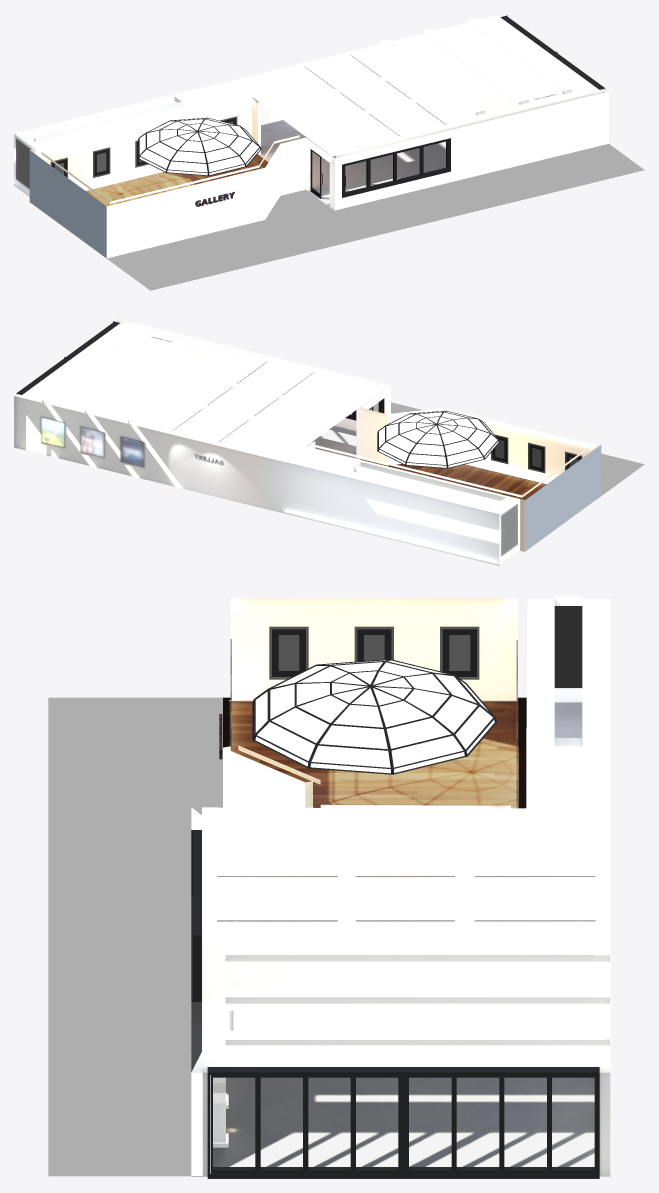
File: art-gallery15.glb
The picture shows the model from 3 angles, top to bottom: view 1: azimuth 30°, elevation 25°; view 2: azimuth 150°, elevation 25°; view 3: azimuth 270°, elevation 25°; orthographic projection. The views are drawn at different scales.
Parts seen in each view (by area): view 1: ParedesPrincipais, Paredes, Chao_entrada.001, Sphere.002, Chao_entrada, LuzesEmission, Metais, Chao_madeira, Todos os quadros; view 2: ParedesPrincipais, Paredes, Sphere.002, LuzesEmission, Chao_madeira, Chao_entrada.001, Todos os quadros, Chao_entrada, Metais; view 3: ParedesPrincipais, Chao_entrada.001, Chao_entrada, Paredes, Sphere.002, Metais, Chao_madeira, LuzesEmission, Todos os quadros.
Boxes of the visible parts, left/top/right/bottom form: ParedesPrincipais: left=14, top=14, right=608, bottom=210; Paredes: left=29, top=98, right=334, bottom=258; Chao_entrada.001: left=107, top=144, right=644, bottom=290; Sphere.002: left=138, top=117, right=261, bottom=175; Chao_entrada: left=258, top=120, right=445, bottom=206; LuzesEmission: left=380, top=18, right=571, bottom=111; Metais: left=310, top=15, right=605, bottom=198; Chao_madeira: left=86, top=154, right=268, bottom=206; Todos os quadros: left=50, top=116, right=237, bottom=177; ParedesPrincipais: left=14, top=319, right=524, bottom=565; Paredes: left=309, top=385, right=601, bottom=551; Sphere.002: left=377, top=410, right=499, bottom=468; LuzesEmission: left=42, top=329, right=232, bottom=422; Chao_madeira: left=360, top=459, right=546, bottom=499; Chao_entrada.001: left=350, top=402, right=644, bottom=495; Todos os quadros: left=491, top=434, right=582, bottom=472; Chao_entrada: left=312, top=426, right=360, bottom=459; Metais: left=16, top=321, right=384, bottom=439; ParedesPrincipais: left=191, top=596, right=610, bottom=1175; Chao_entrada.001: left=48, top=697, right=222, bottom=1176; Chao_entrada: left=191, top=702, right=610, bottom=1176; Paredes: left=223, top=598, right=517, bottom=808; Sphere.002: left=252, top=659, right=496, bottom=774; Metais: left=191, top=830, right=599, bottom=1178; Chao_madeira: left=223, top=697, right=526, bottom=808; LuzesEmission: left=225, top=947, right=609, bottom=1039; Todos os quadros: left=230, top=606, right=582, bottom=808.
Size of what is drawn, in the model's own units: 62.24 by 8.29 by 30.8.
Materials: 20 (6 with a texture image).
